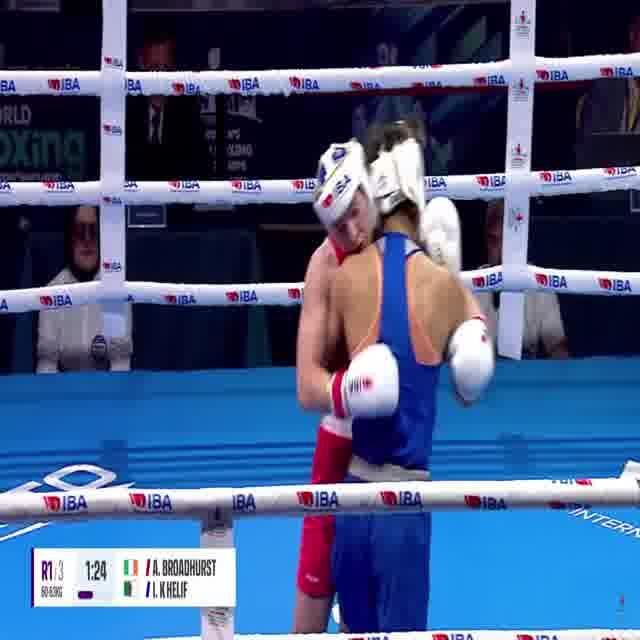blue-player: (318, 119, 468, 640)
red-player: (286, 137, 497, 640)
